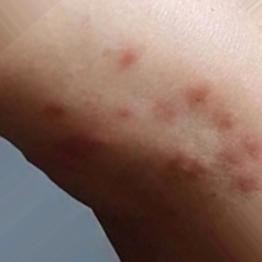Fleas: (176, 151, 207, 181), (35, 101, 73, 125), (206, 148, 237, 175), (243, 134, 261, 179), (184, 85, 215, 108), (150, 96, 177, 122), (113, 48, 142, 70), (57, 135, 77, 161), (114, 108, 142, 125), (230, 175, 261, 190), (211, 111, 234, 131), (87, 137, 104, 151)
